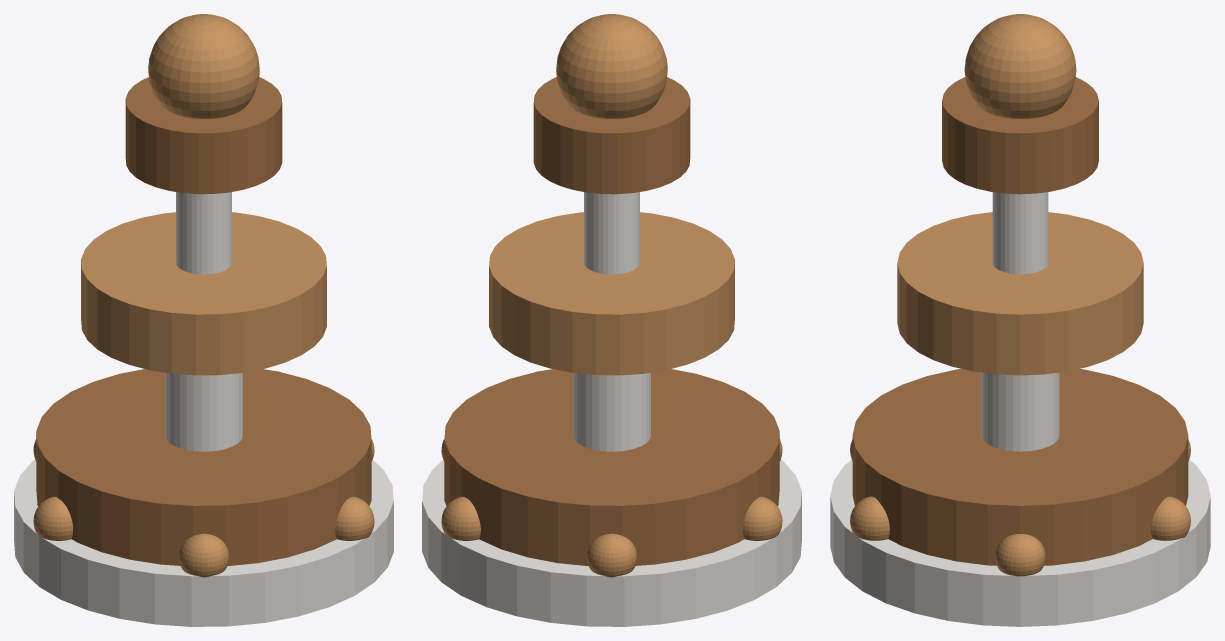
File: Fondue.glb
3 renders of one model, left to right at view 1: azimuth 30°, elevation 25°; view 2: azimuth 150°, elevation 25°; view 3: azimuth 270°, elevation 25°, orthographic.
Visible parts, largest first — view 1: Cylinder.001, Cylinder.003, Cylinder, Cylinder.005, Sphere, Cylinder.002, Cylinder.004, Sphere.005, Sphere.004, Sphere.006; view 2: Cylinder.001, Cylinder.003, Cylinder, Cylinder.005, Sphere, Cylinder.002, Cylinder.004, Sphere.003, Sphere.004, Sphere.002; view 3: Cylinder.001, Cylinder.003, Cylinder, Cylinder.005, Sphere, Cylinder.002, Cylinder.004, Sphere.001, Sphere.002, Sphere.006.
Part boxes in pixels (box(x1,y1,x2,y2)): Cylinder.001: box(36, 369, 371, 566); Cylinder.003: box(81, 212, 326, 375); Cylinder: box(14, 459, 393, 626); Cylinder.005: box(125, 77, 282, 194); Sphere: box(148, 14, 259, 118); Cylinder.002: box(165, 372, 242, 451); Cylinder.004: box(176, 192, 231, 274); Sphere.005: box(179, 533, 228, 577); Sphere.004: box(33, 496, 72, 540); Sphere.006: box(335, 496, 374, 540); Cylinder.001: box(444, 369, 779, 566); Cylinder.003: box(489, 212, 734, 375); Cylinder: box(422, 459, 801, 626); Cylinder.005: box(533, 77, 690, 194); Sphere: box(556, 14, 667, 118); Cylinder.002: box(573, 372, 650, 451); Cylinder.004: box(584, 192, 639, 274); Sphere.003: box(587, 533, 636, 577); Sphere.004: box(743, 496, 782, 540); Sphere.002: box(441, 496, 480, 540); Cylinder.001: box(852, 369, 1188, 565); Cylinder.003: box(897, 212, 1143, 375); Cylinder: box(830, 459, 1210, 626); Cylinder.005: box(942, 77, 1098, 194); Sphere: box(964, 14, 1076, 118); Cylinder.002: box(981, 372, 1059, 451); Cylinder.004: box(992, 192, 1048, 274); Sphere.001: box(995, 534, 1045, 576); Sphere.002: box(1151, 496, 1190, 540); Sphere.006: box(850, 496, 889, 540).
Bounding box in the file's own units: 0.69 × 1.04 × 0.68.
